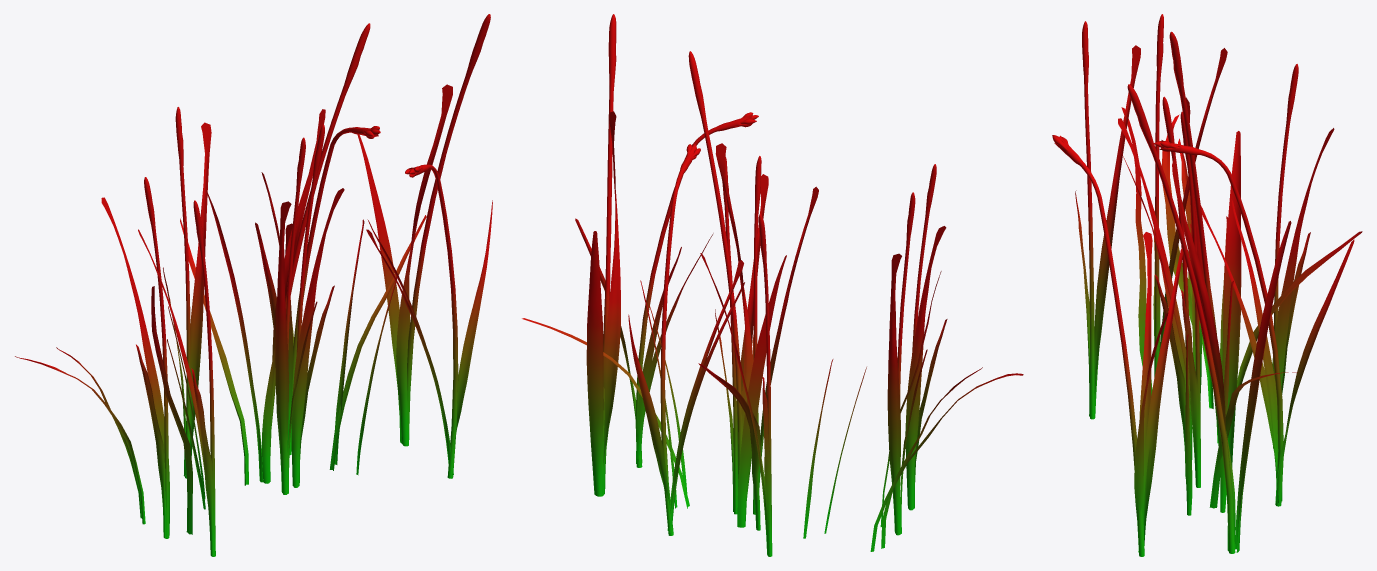
Rendered from Rush Daffodil_LOD0_Var19_wftgfjaia.fbx.
3 views of the same model, side by side, from view 1: azimuth 30°, elevation 25°; view 2: azimuth 150°, elevation 25°; view 3: azimuth 270°, elevation 25° (orthographic). The views are drawn at different scales.
Parts seen in each view (by area): view 1: _po8v_var19_LOD0; view 2: _po8v_var19_LOD0; view 3: _po8v_var19_LOD0.
Boxes of the visible parts, x1,y1,x2,y2 form: _po8v_var19_LOD0: [15, 14, 492, 556]; _po8v_var19_LOD0: [522, 14, 1023, 556]; _po8v_var19_LOD0: [1052, 14, 1362, 556].
Bounding box in the file's own units: 34.9 × 32.47 × 18.66.
